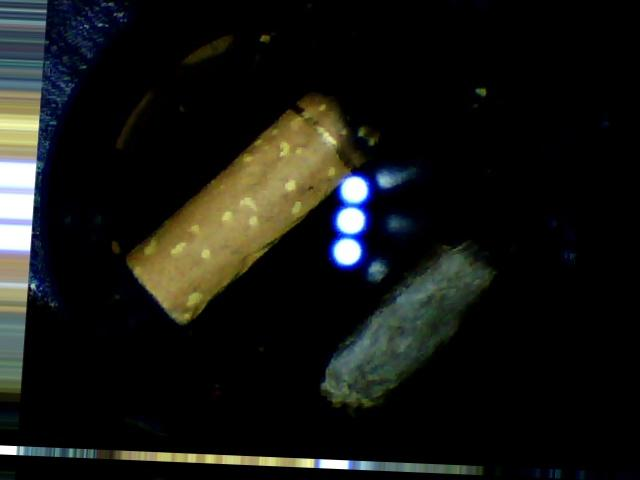megot: (111, 68, 381, 350), (306, 224, 507, 426)
